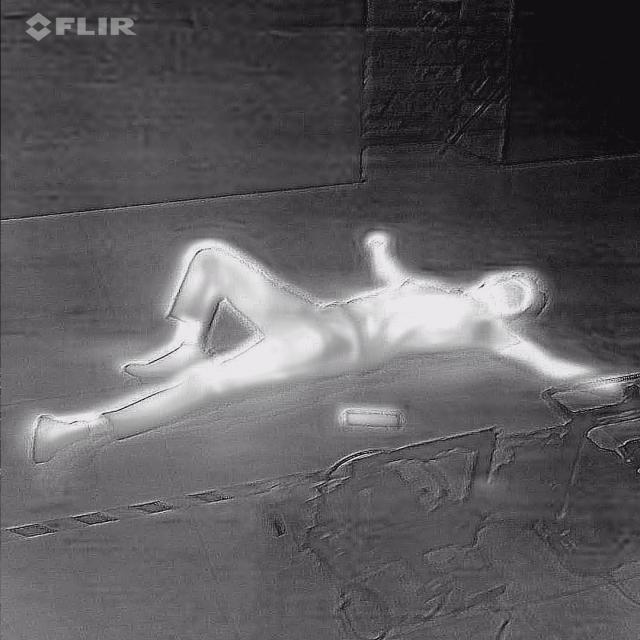Victim: (23, 222, 640, 469)
